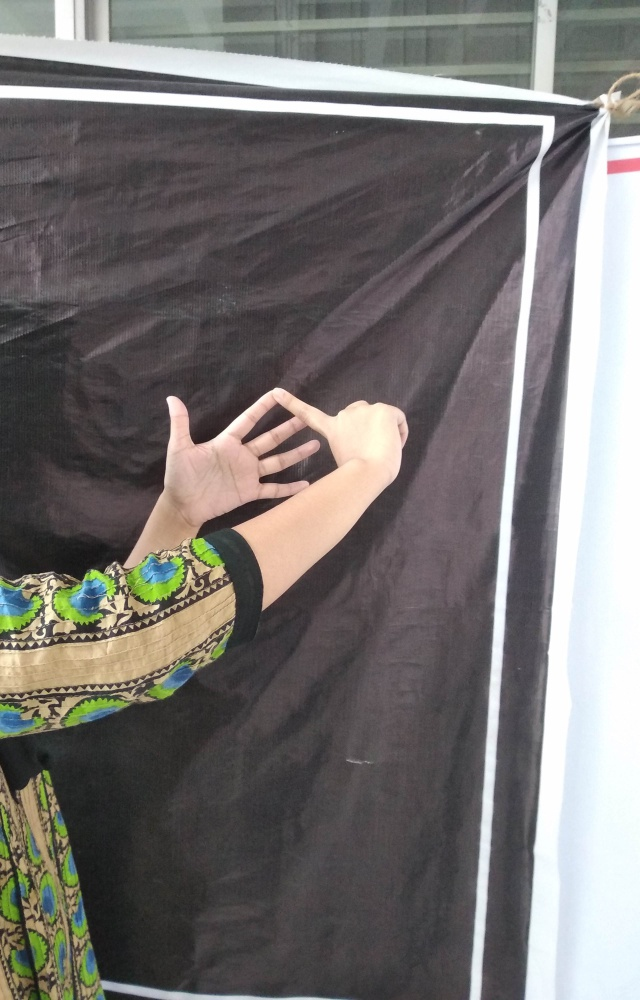o: (143, 378, 415, 530)
